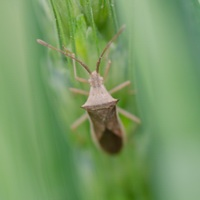insect: (37, 25, 139, 153)
